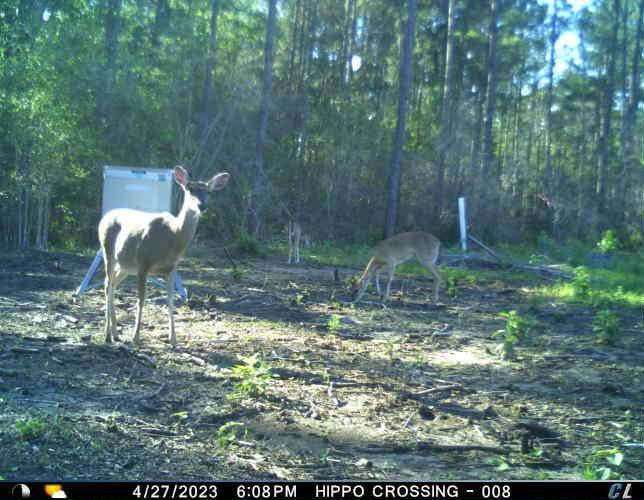Deer: (94, 165, 231, 349), (347, 229, 450, 310), (284, 218, 304, 266)
